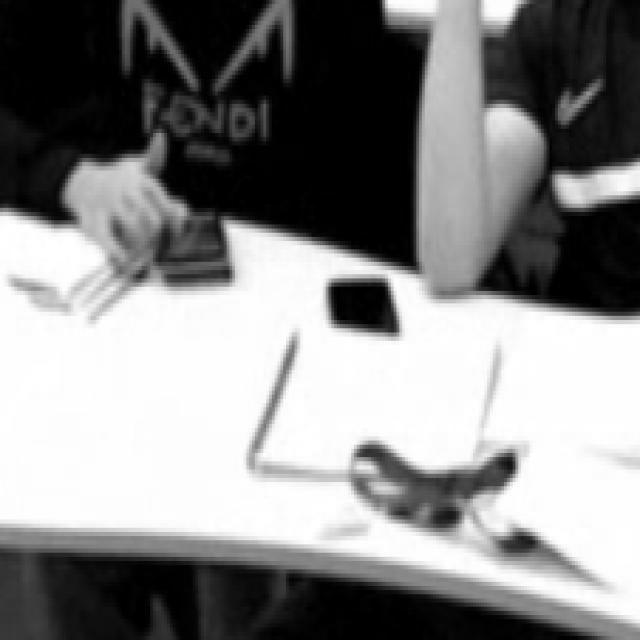fake: (154, 204, 240, 298), (326, 268, 404, 349)
